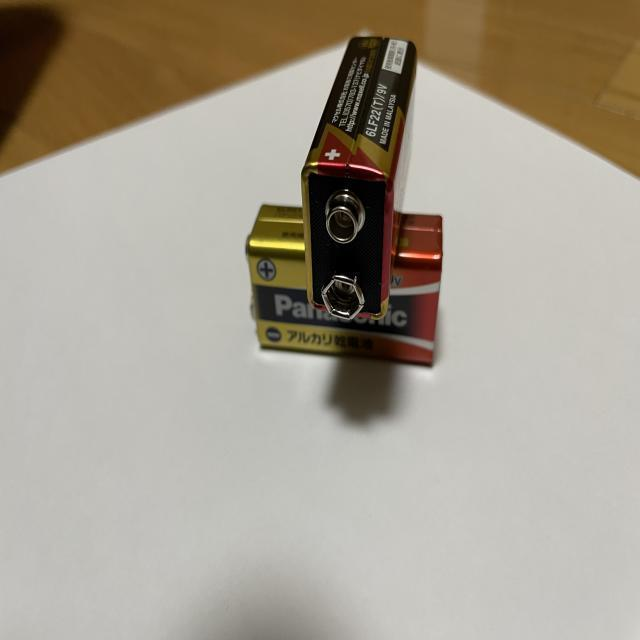9V: (300, 35, 418, 322), (245, 204, 444, 368)
